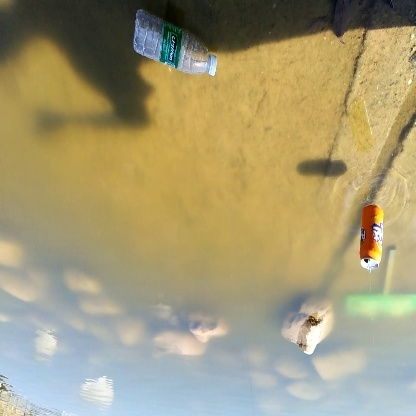bottle: (129, 7, 219, 83), (359, 202, 383, 276)
